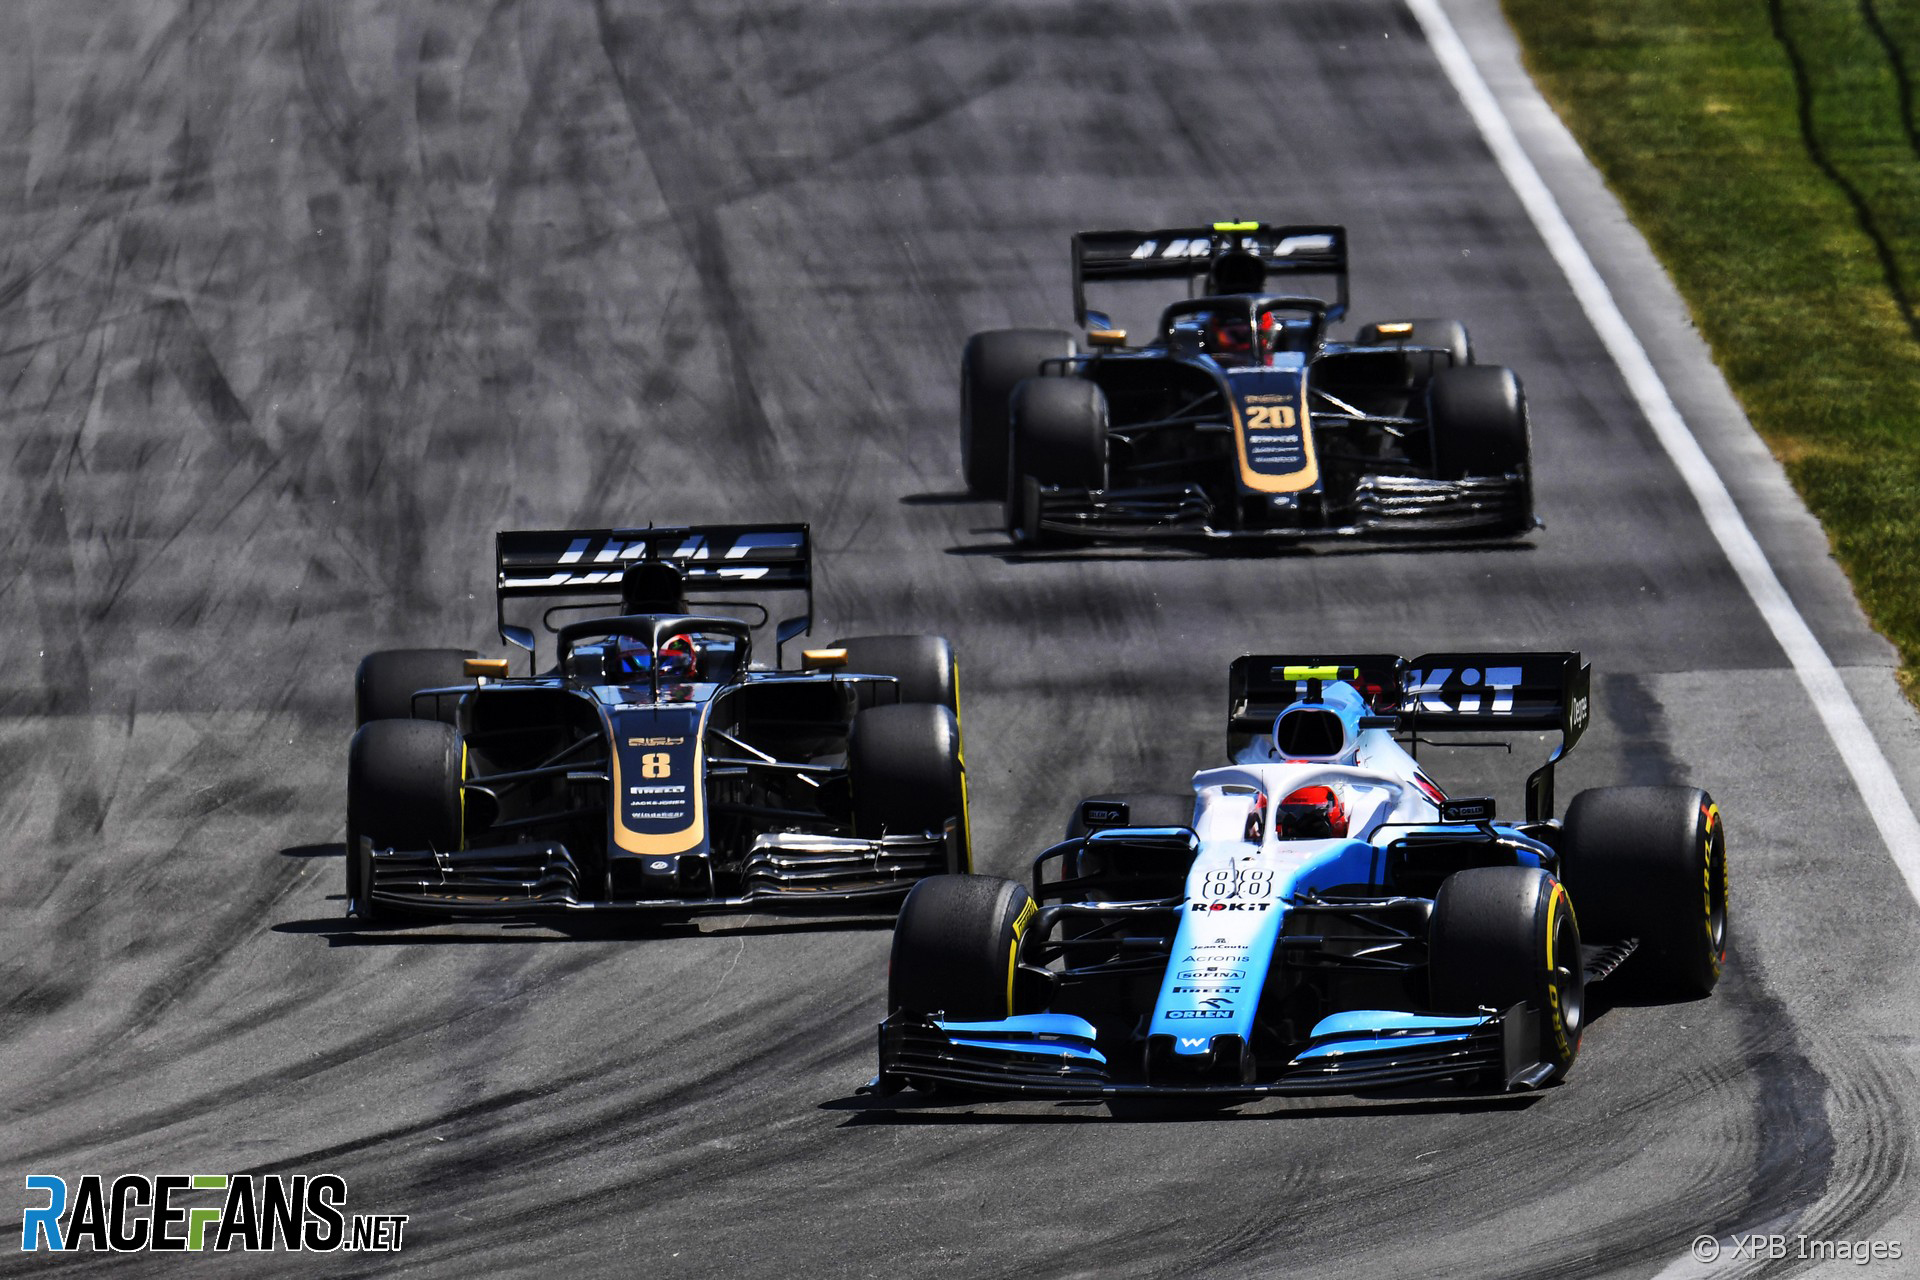F1 Car: (873, 647, 1744, 1139), (337, 513, 989, 947), (953, 199, 1561, 569)
